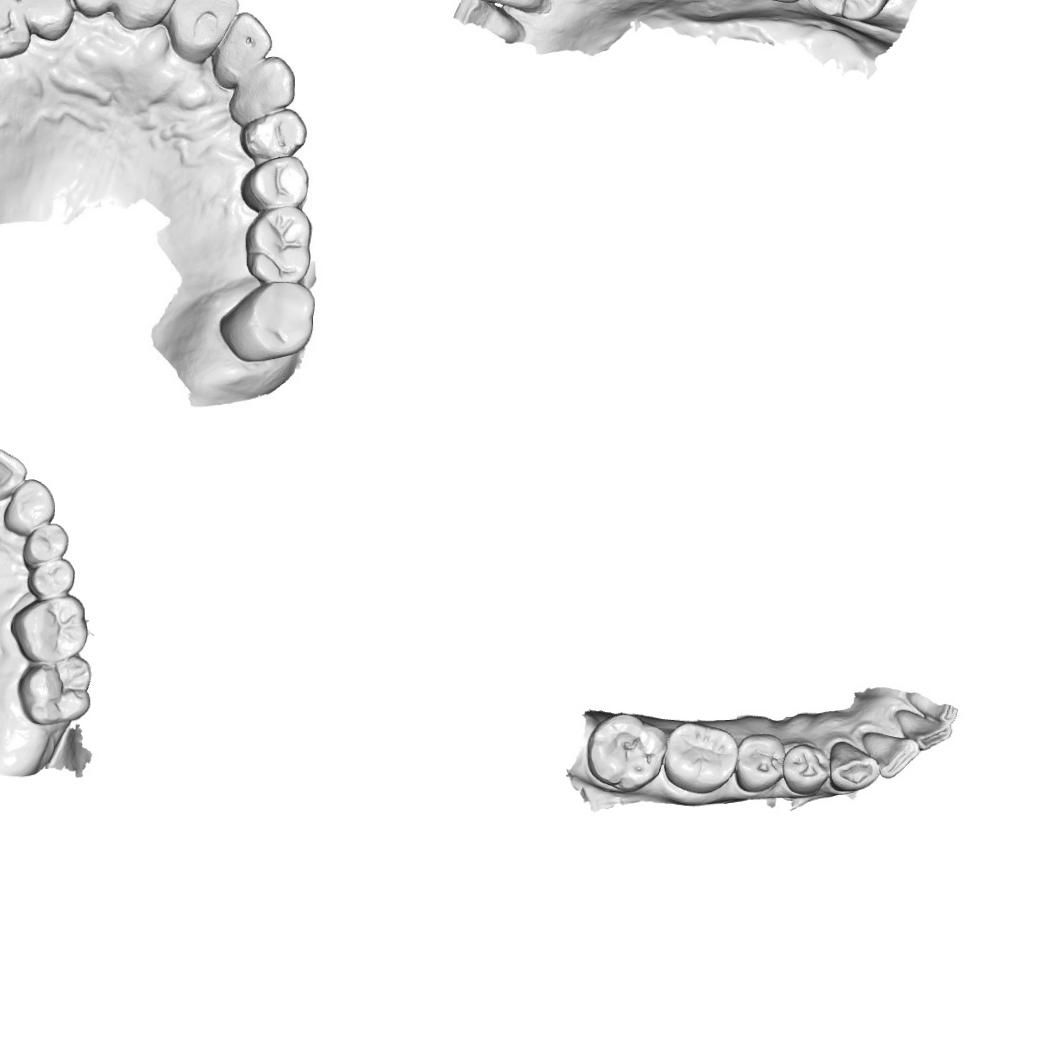canine: (228, 56, 294, 130), (2, 477, 56, 534), (826, 740, 882, 793), (23, 0, 74, 38)
incisor: (167, 0, 235, 56), (219, 14, 272, 76), (860, 728, 923, 780), (895, 706, 954, 752), (114, 0, 179, 30), (914, 688, 960, 730), (0, 446, 29, 502), (469, 0, 542, 13), (71, 0, 117, 17)
molar: (584, 710, 670, 794), (224, 282, 317, 355), (662, 718, 741, 796), (15, 654, 94, 728), (8, 593, 86, 665), (250, 212, 310, 288), (805, 0, 897, 24)
premolar: (734, 732, 787, 795), (246, 156, 310, 207), (780, 740, 831, 796), (246, 112, 304, 158), (19, 522, 69, 566), (25, 557, 76, 598), (0, 0, 25, 52)
